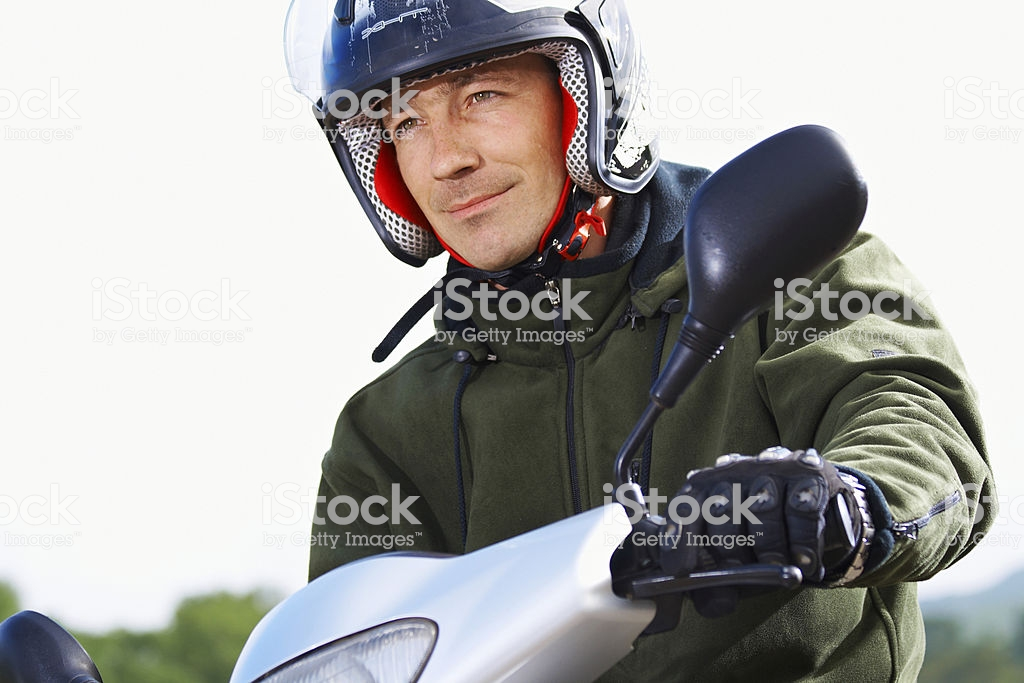helmet: (300, 2, 644, 205)
